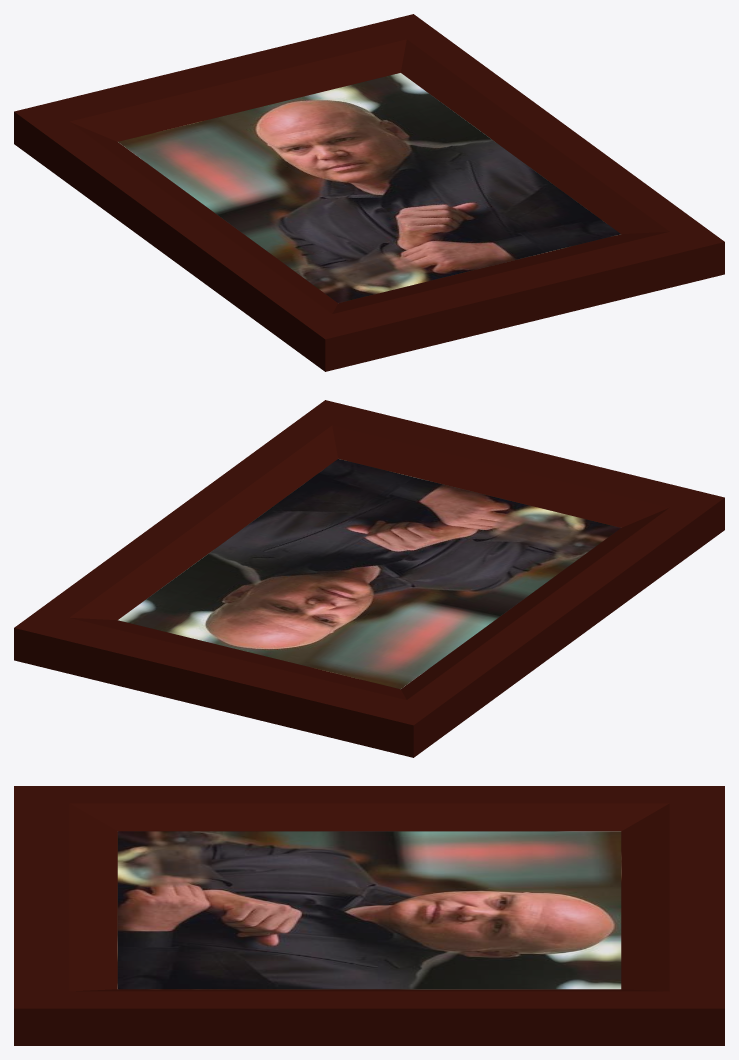
Rendered from wilsonfisk.FBX.
3 views of the same model, one above another, from view 1: azimuth 30°, elevation 25°; view 2: azimuth 150°, elevation 25°; view 3: azimuth 270°, elevation 25° (orthographic). The views are drawn at different scales.
Parts seen in each view (by area): view 1: WilsonFisk; view 2: WilsonFisk; view 3: WilsonFisk.
Part boxes in pixels (x1,y1,x2,y2): WilsonFisk: [14, 14, 724, 371]; WilsonFisk: [14, 400, 724, 757]; WilsonFisk: [14, 786, 724, 1045].
Size of the model in its own units: 11.79 by 0.9168 by 15.9.
Materials: 2 (1 with a texture image).
